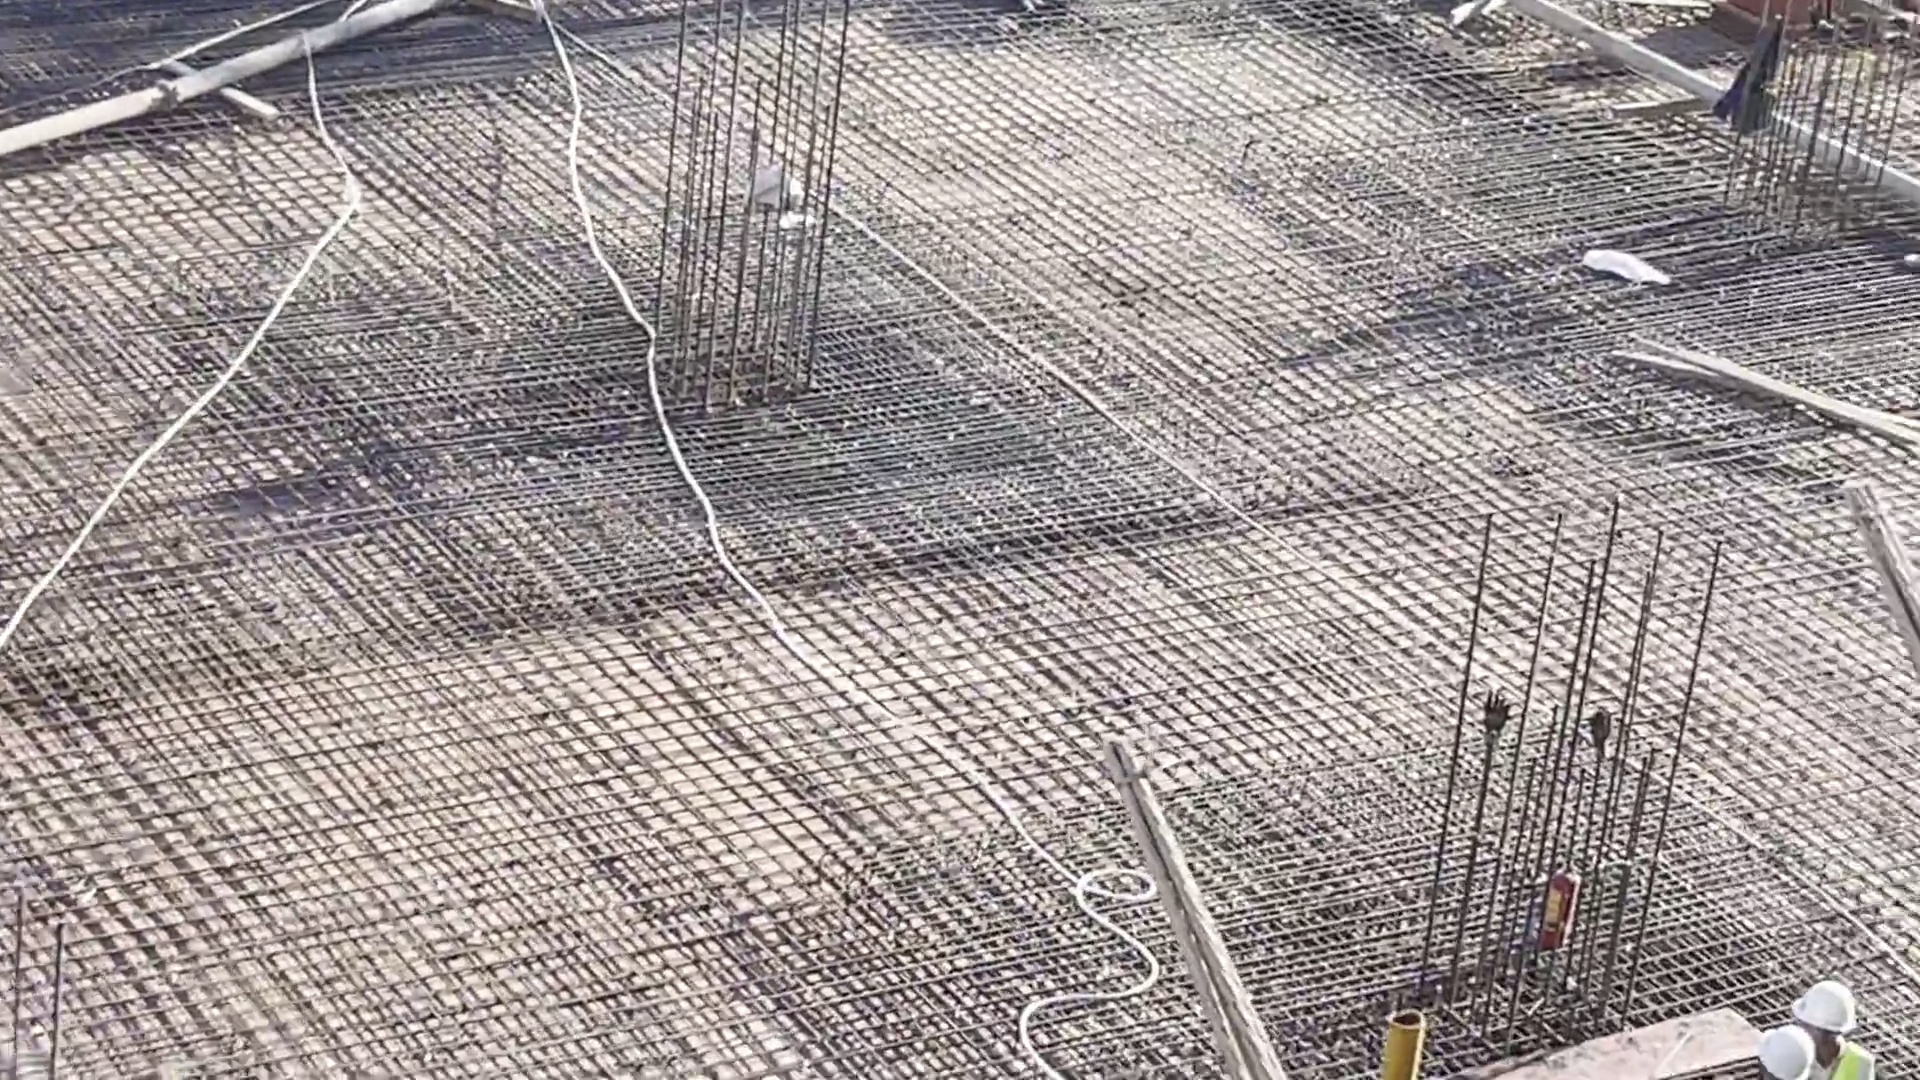helmet: (1797, 976, 1850, 1035), (1766, 1035, 1817, 1075)
person: (1774, 976, 1887, 1080), (1743, 1022, 1816, 1080)
